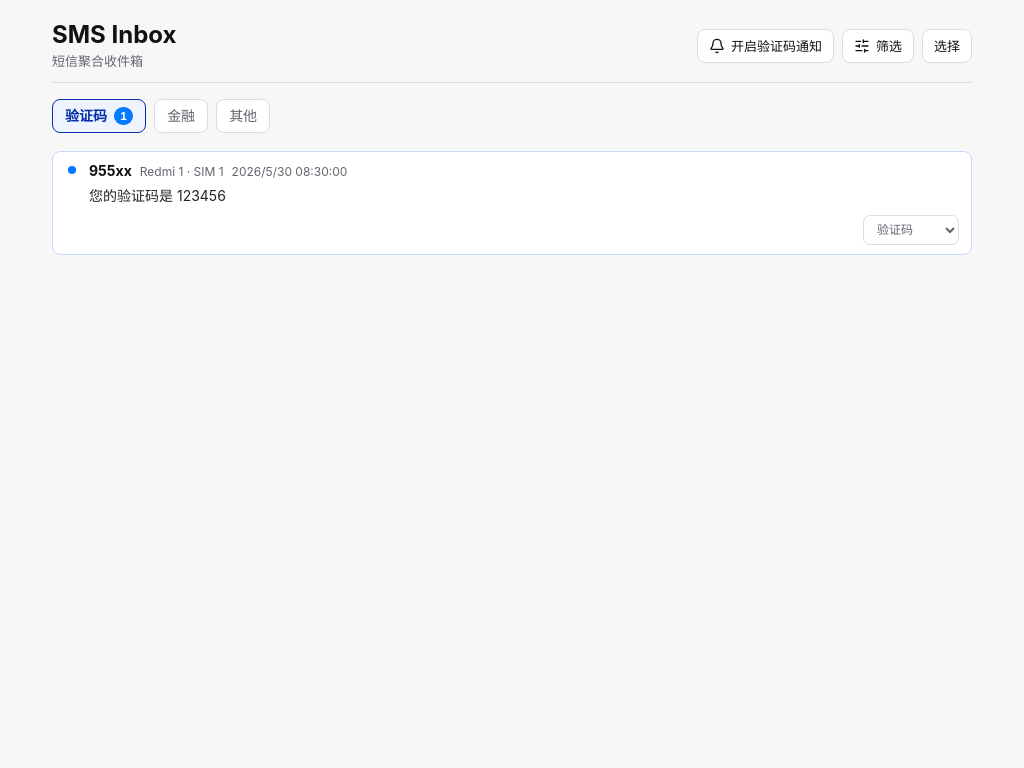
Test: InboxApp › keeps an opened message visible under the unread filter after optimistic read
Expected: the text "您的验证码是 123456" is shown, [89,187,226,204]
Click the button "筛选".
click(878, 46)  # box [842,29,914,63]
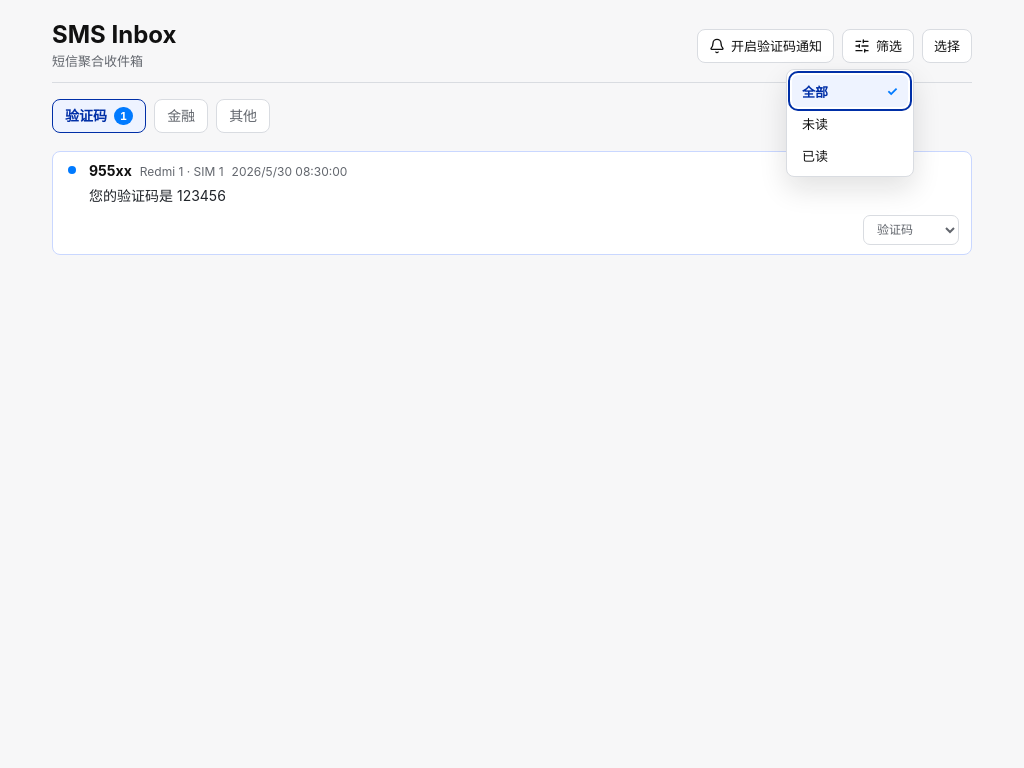
Click the menu item "未读".
click(850, 123)  # box [792,107,908,139]
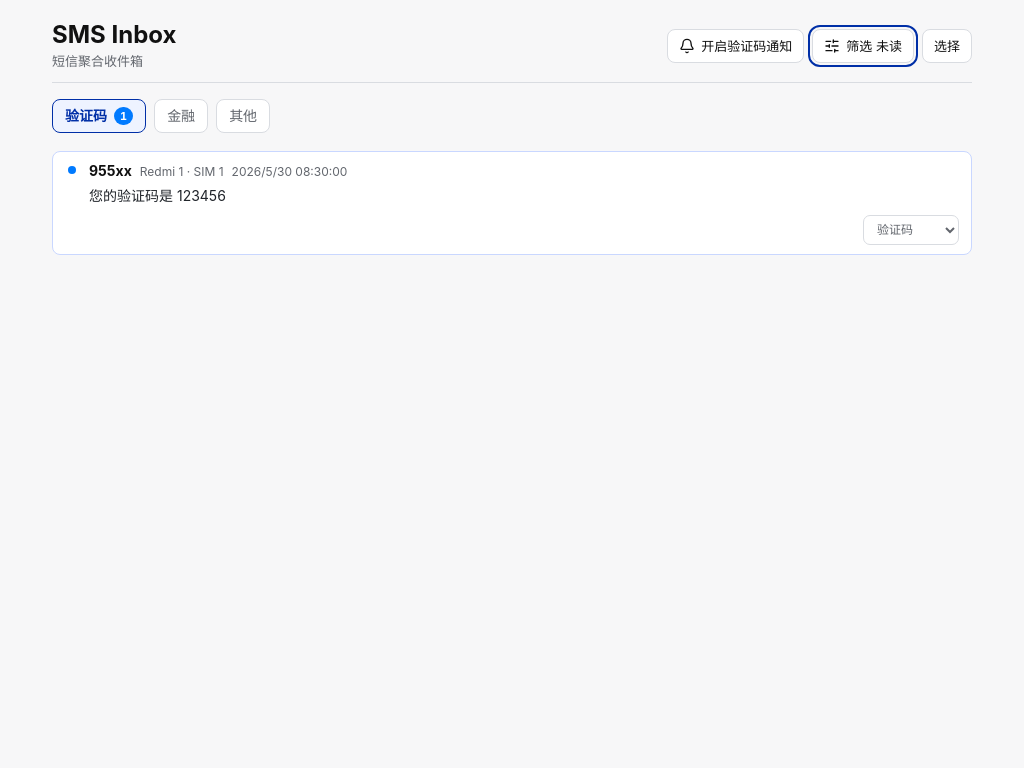
Click the button with aria-label "短信 955xx".
click(110, 171)  # box [89,162,347,204]
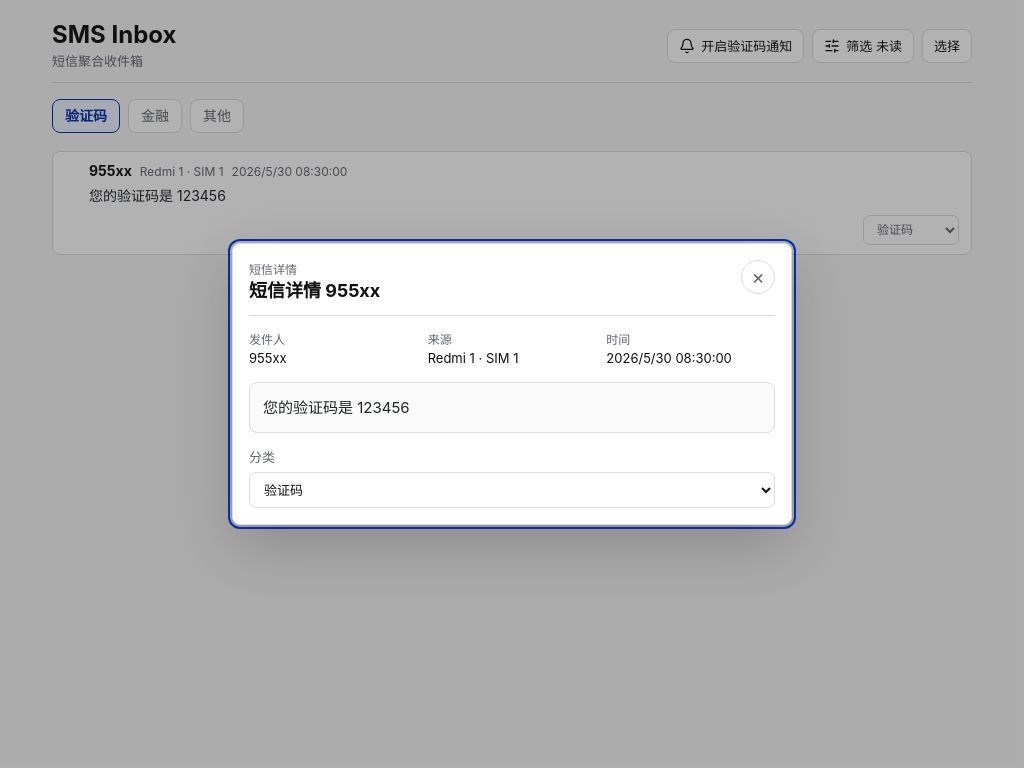
Expected: the 1st text "您的验证码是 123456" is shown, [89,187,226,204]
Expected: the dialog "短信详情 955xx" is shown, [232,243,792,525]
